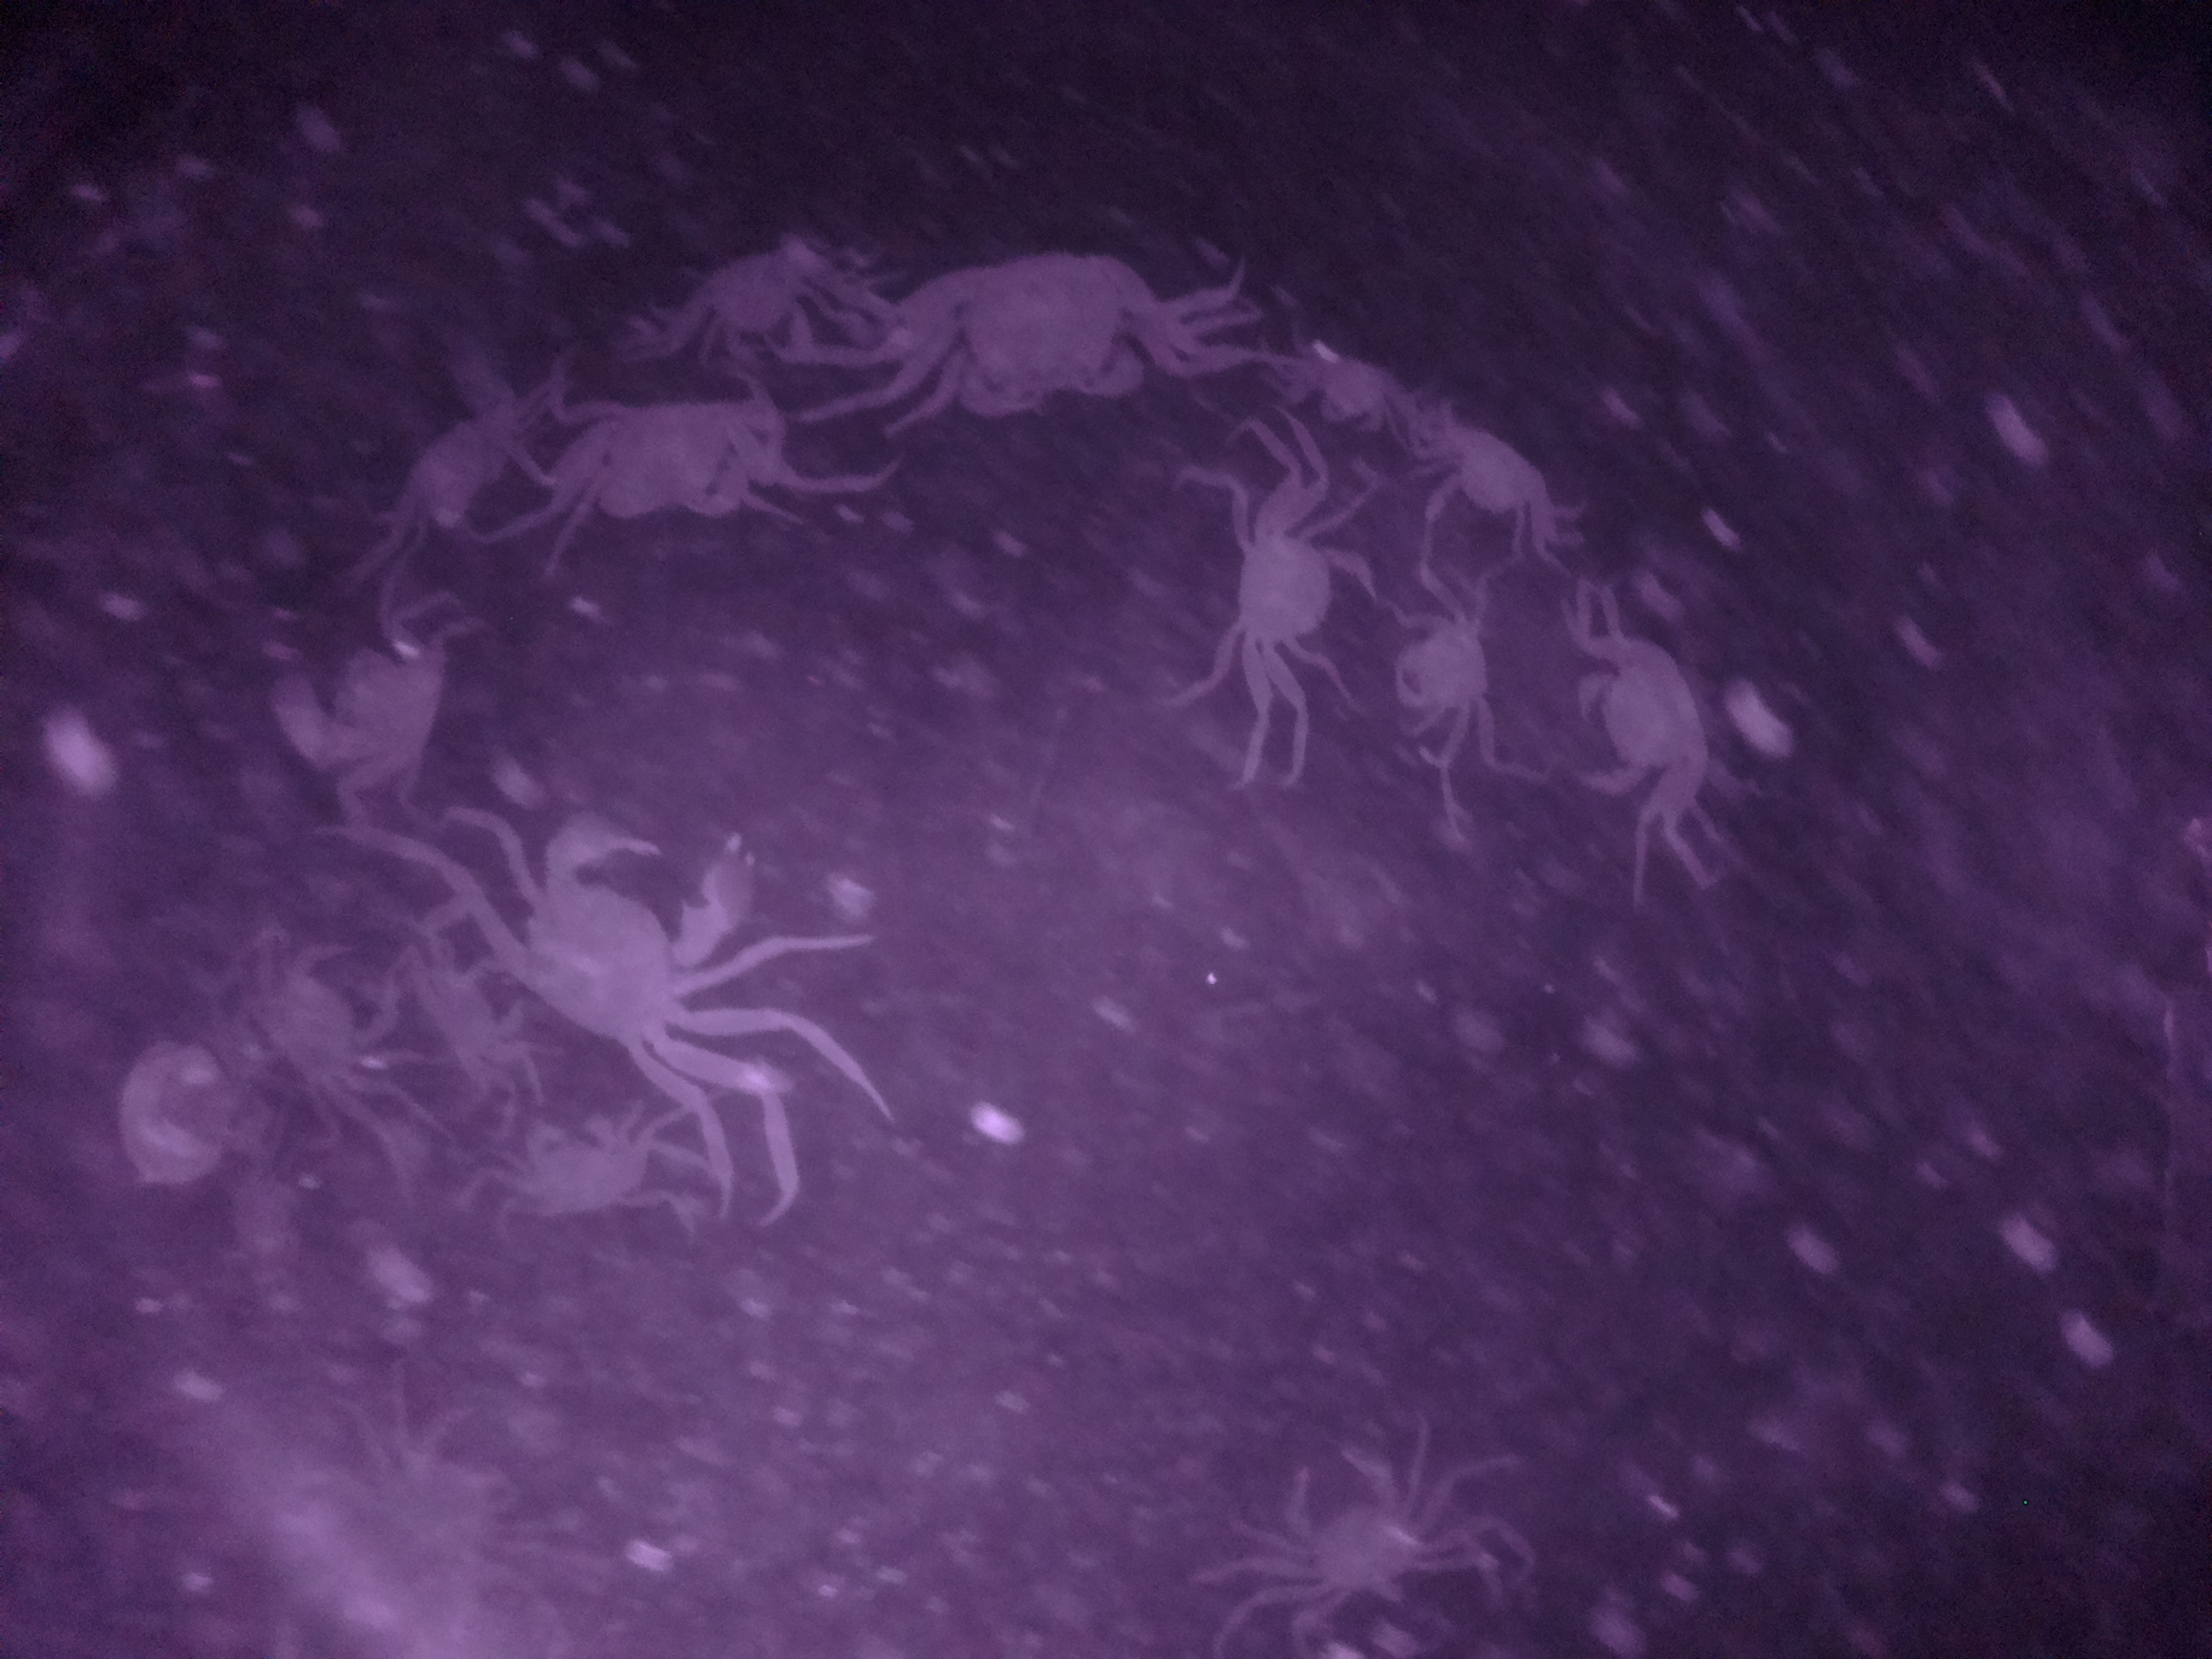Crab: (482, 758, 782, 1101), (894, 237, 1200, 450), (1244, 1432, 1453, 1649), (547, 378, 787, 538), (1204, 498, 1381, 708), (1554, 622, 1735, 823), (1416, 399, 1575, 544), (493, 1103, 664, 1230), (1385, 589, 1505, 741)
